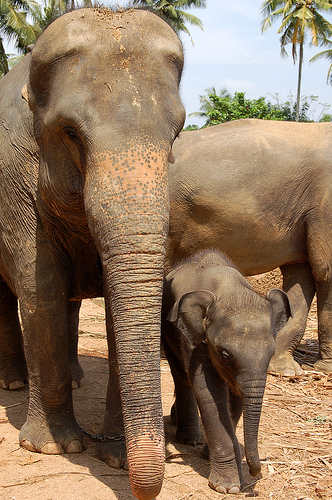elephant: (1, 2, 187, 497), (151, 241, 295, 497)
